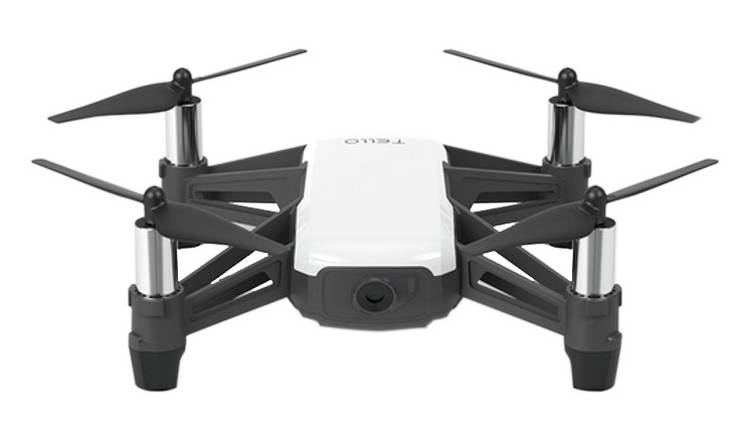drone: (26, 41, 724, 397)
